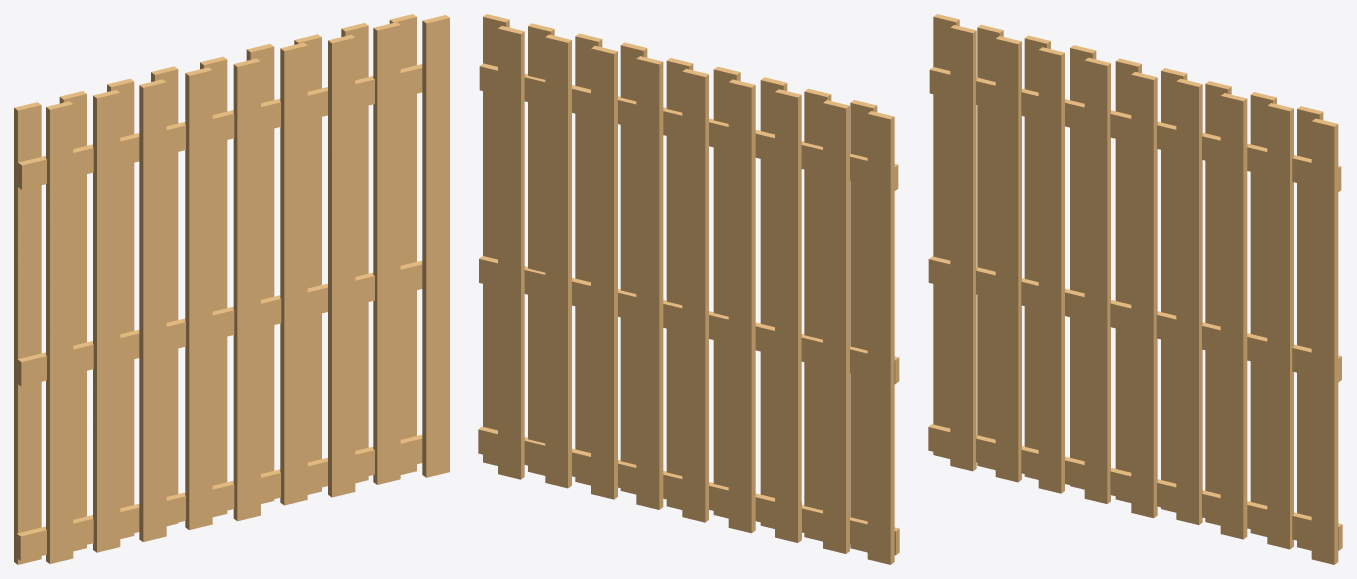
The model's file is fence-section.glb.
3 renders of one model, left to right at view 1: azimuth 30°, elevation 25°; view 2: azimuth 150°, elevation 25°; view 3: azimuth 330°, elevation 25°, orthographic. The views are drawn at different scales.
Parts seen in each view (by area): view 1: Node; view 2: Node; view 3: Node.
Boxes of the visible parts, bbox=[...] form: Node: bbox=[14, 14, 449, 564]; Node: bbox=[478, 14, 899, 564]; Node: bbox=[928, 14, 1342, 564].
Bounding box in the file's own units: 3.09 × 3.19 × 0.1808.
